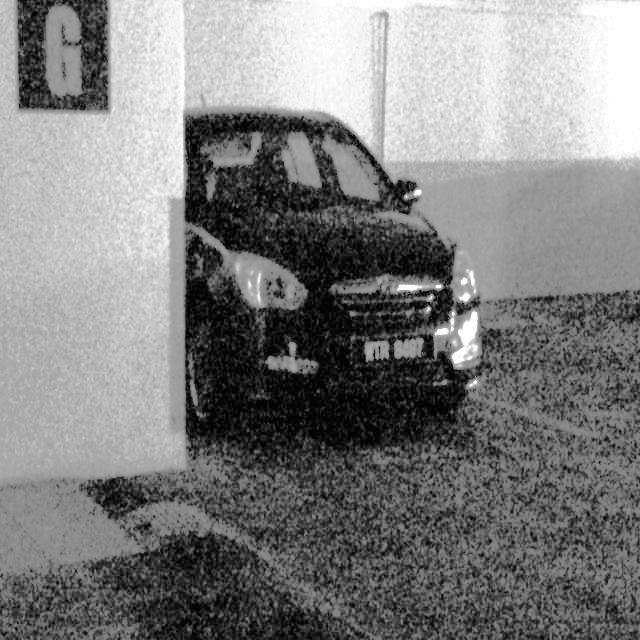Car: (174, 84, 493, 469)
